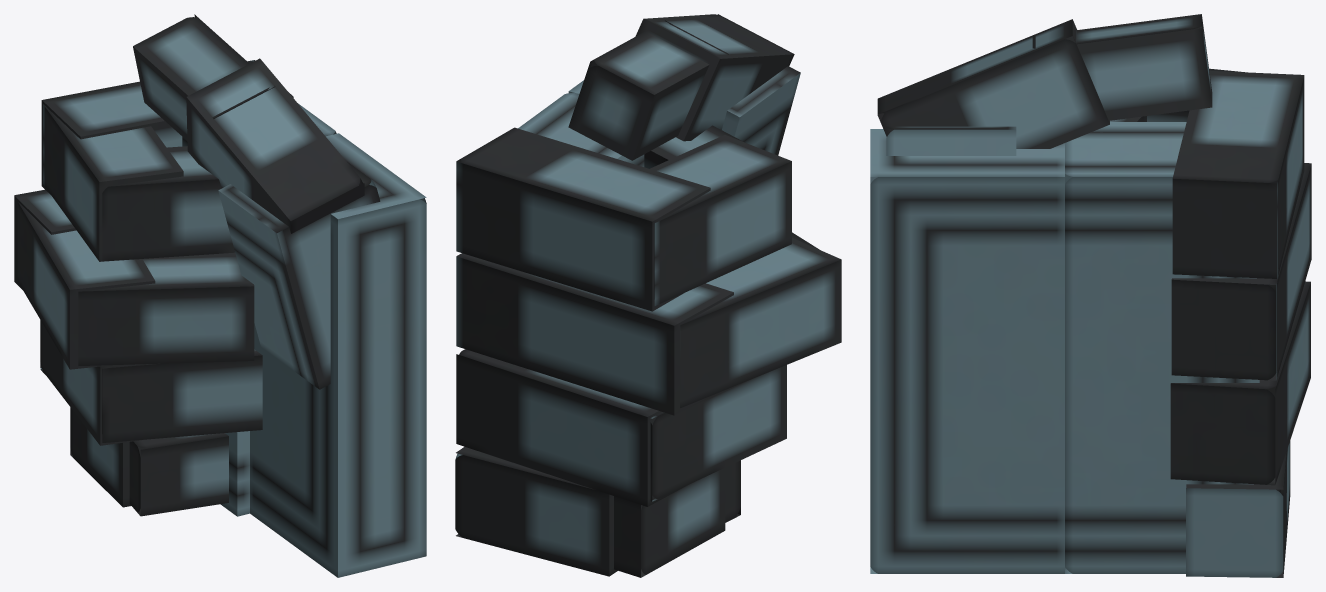
3 renders of one model, left to right at view 1: azimuth 30°, elevation 25°; view 2: azimuth 150°, elevation 25°; view 3: azimuth 270°, elevation 25°, orthographic. The views are drawn at different scales.
Parts seen in each view (by area): view 1: fist, thumb_middle, middle_tip, thumb_base, ring_tip, index_tip, index_middle, middle_middle, thumb_tip, pinky_tip, index_base, ring_middle (+2 smaller); view 2: index_base, middle_base, ring_base, middle_middle, index_middle, pinky_base, thumb_tip, ring_middle, thumb_middle, pinky_middle, thumb_base, fist (+2 smaller); view 3: fist, index_base, thumb_middle, middle_base, ring_base, thumb_tip, pinky_base, thumb_base.
Boxes of the visible parts, x1,y1,x2,y2 form: fist: (182,103,426,577); thumb_middle: (186,58,364,233); middle_tip: (78,253,254,365); thumb_base: (218,161,380,389); ring_tip: (102,349,262,442); index_tip: (102,146,234,261); index_middle: (43,104,183,261); middle_middle: (17,202,155,369); thumb_tip: (133,14,275,140); pinky_tip: (129,433,228,516); index_base: (41,60,293,194); ring_middle: (40,320,143,445); index_base: (456,127,710,311); middle_base: (456,253,733,415); ring_base: (456,349,685,506); middle_middle: (680,238,841,407); index_middle: (650,135,791,305); pinky_base: (455,446,642,576); thumb_tip: (568,20,728,160); ring_middle: (650,365,786,501); thumb_middle: (635,14,794,141); pinky_middle: (614,468,725,577); thumb_base: (722,66,800,155); fist: (518,80,644,166); fist: (870,122,1259,573); index_base: (1172,70,1304,278); thumb_middle: (877,19,1109,148); middle_base: (1171,163,1311,380); ring_base: (1170,281,1310,485); thumb_tip: (1032,14,1212,120); pinky_base: (1186,441,1290,577); thumb_base: (886,126,1016,155).
Size of the model in its own units: 0.6856 by 1.07 by 0.8504.
1 material, 1 textured.
